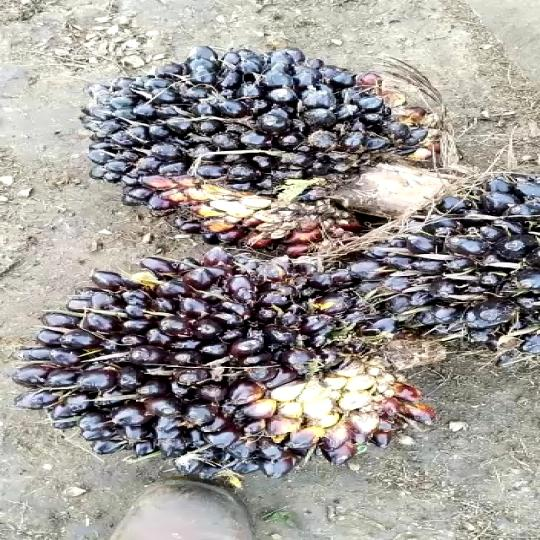mentah: (41, 259, 449, 485), (87, 39, 440, 240), (344, 179, 540, 351)
